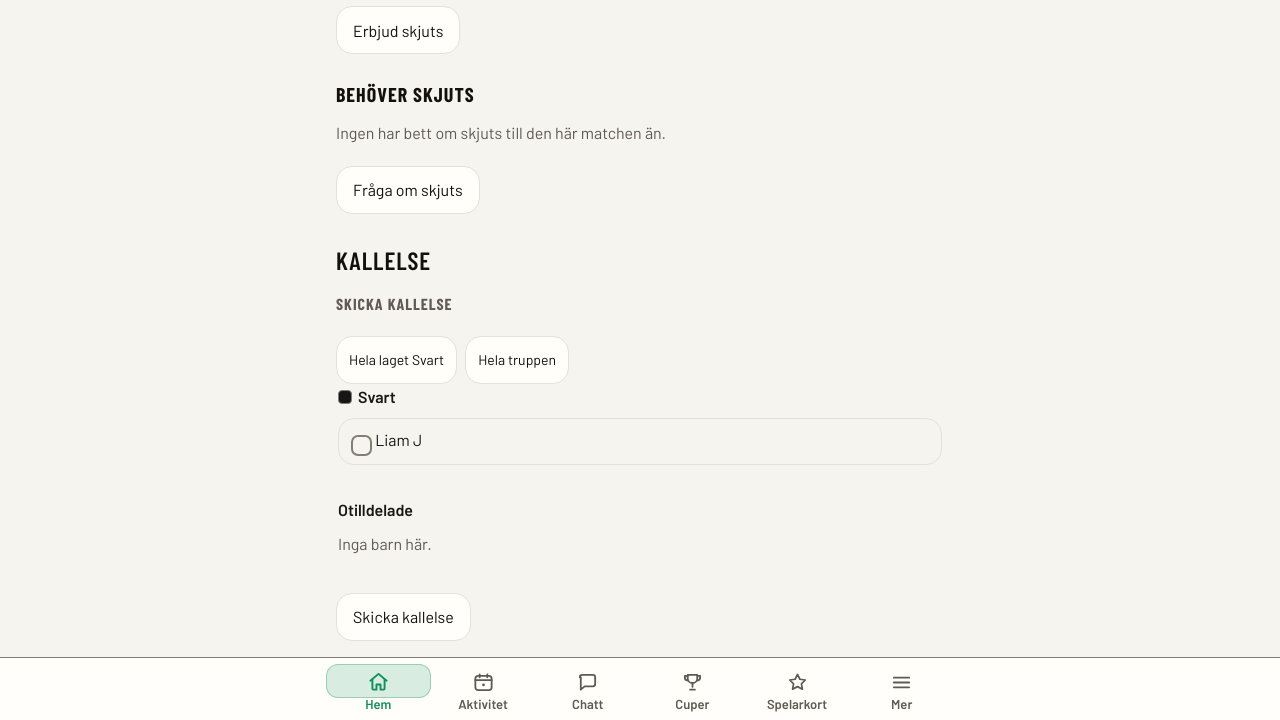
Test: färg-lag-tränaren skickar kallelse › kvitterar att kallelsen skickades (#473)
The image size is (1280, 720).
(page scrolled)
Click the button "Hela laget Svart" at (397, 360), box [336,336,457,384]
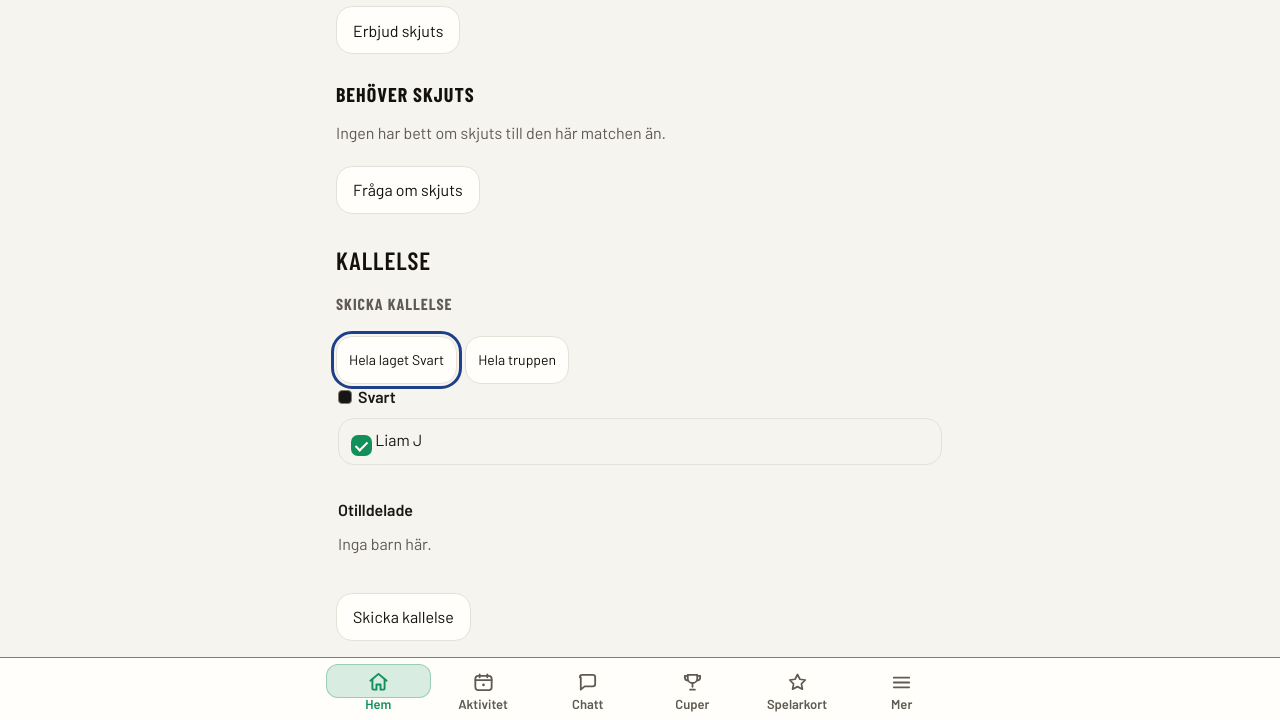
Click the button "Skicka kallelse" at (403, 617), box [336,593,471,641]
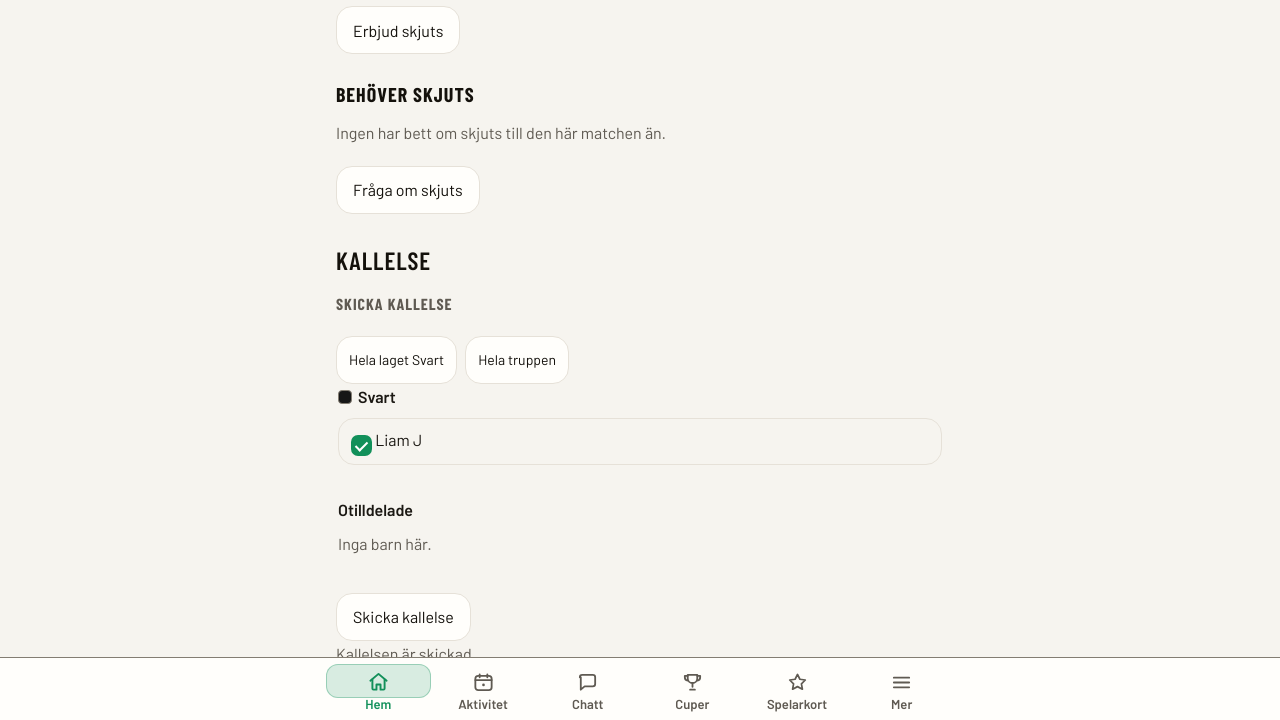
Now the text "Kallelsen är skickad." is shown, box [336,644,476,663]
